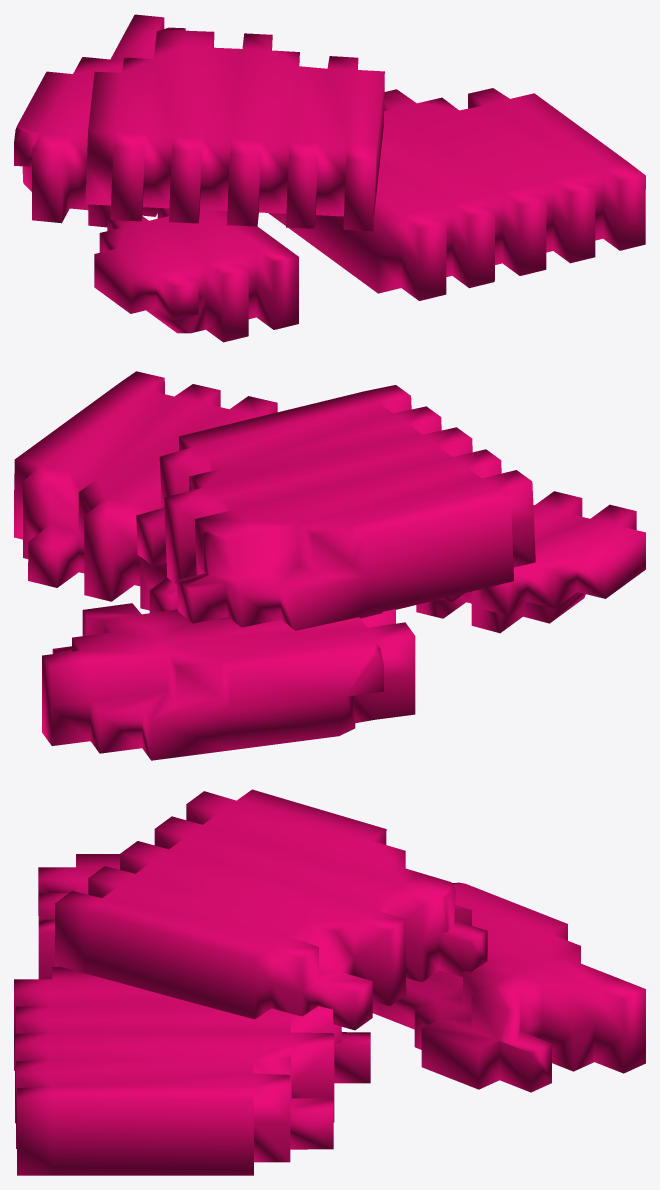
File: Brick_Break_05_Lod0.fbx
3 renders of one model, top to bottom at view 1: azimuth 30°, elevation 25°; view 2: azimuth 150°, elevation 25°; view 3: azimuth 270°, elevation 25°, orthographic. The views are drawn at different scales.
Visible parts, largest first — view 1: Brick_Break_05_Lod0; view 2: Brick_Break_05_Lod0; view 3: Brick_Break_05_Lod0.
Part boxes in pixels (x1,y1,x2,y2): Brick_Break_05_Lod0: [14, 14, 645, 342]; Brick_Break_05_Lod0: [14, 371, 645, 760]; Brick_Break_05_Lod0: [14, 789, 645, 1175].
Size of the model in its own units: 149 by 43.02 by 156.
